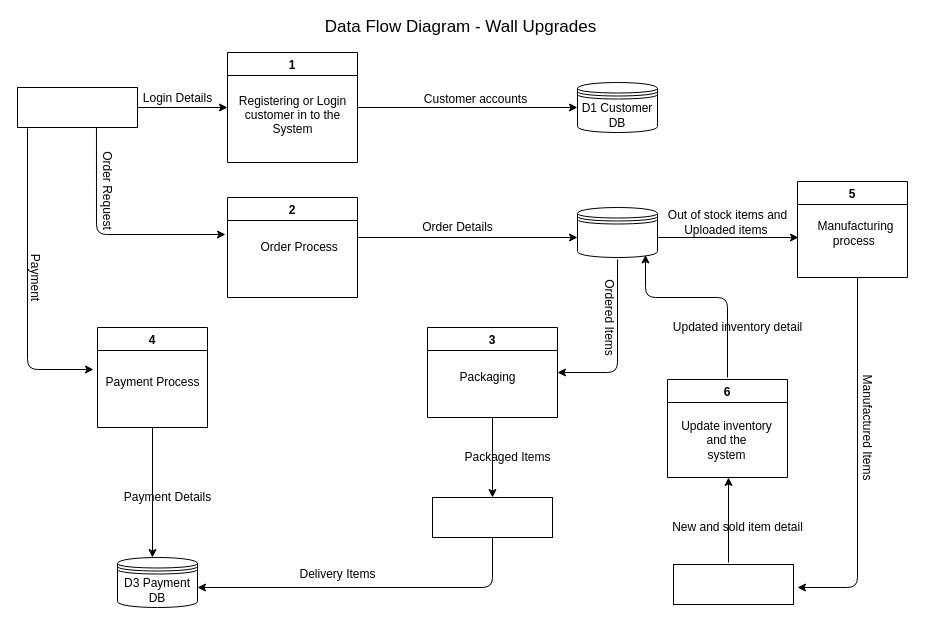
Image size: 925x625. Some labels were removed from this diagram. Each missing label, with the centre of its shape:
Customer: (x=77, y=107)
D2 Inventory DB: (x=617, y=232)
Delivery Person: (x=492, y=517)
System: (x=733, y=584)
